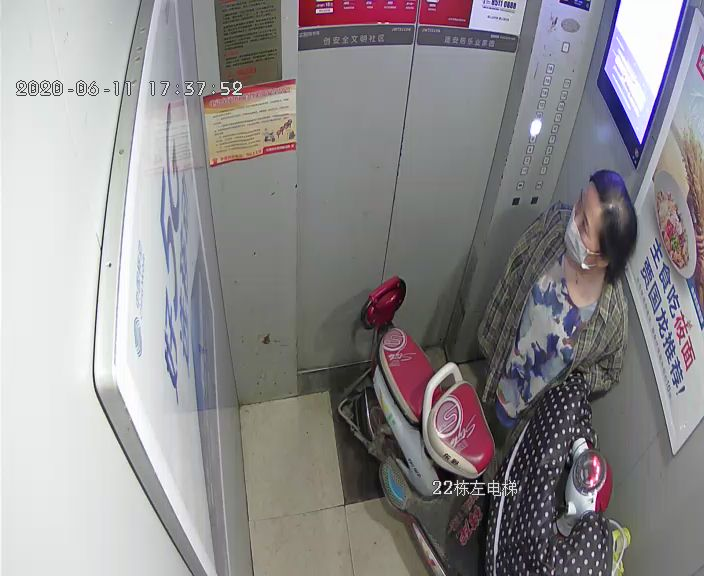Electric-bicycle: (340, 273, 629, 573)
